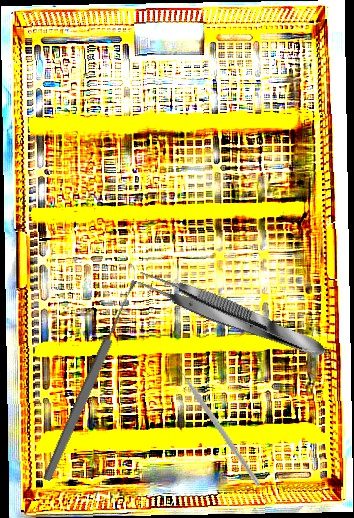Chopper: (144, 353, 296, 488)
Surgical Spoon: (40, 278, 142, 483)
Tissue Forceps: (133, 264, 331, 366)
